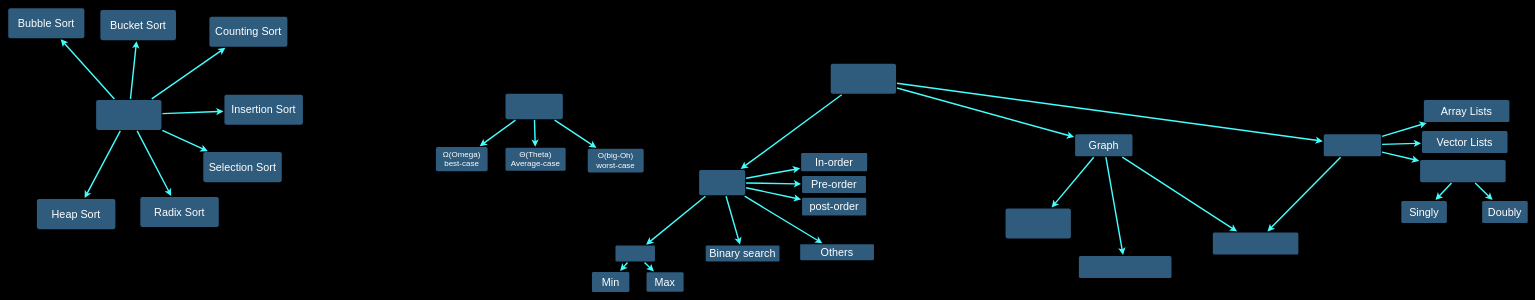
Image size: 1535x300. Some labels were removed from this diagram. Each missing label, with the centre of its shape:
"Adjacency List" goes at pixel 1255 243.
"Adjacency Matrix" goes at pixel 1125 267.
"Data structures" goes at pixel 863 78.
"Heap" goes at pixel 635 253.
"Linked List" goes at pixel 1462 171.
"Lists" goes at pixel 1352 145.
"Notations" goes at pixel 534 106.
"Sorting Algorithm" goes at pixel 128 115.
"Traversal" goes at pixel 1038 223.
"Trees" goes at pixel 722 182.
